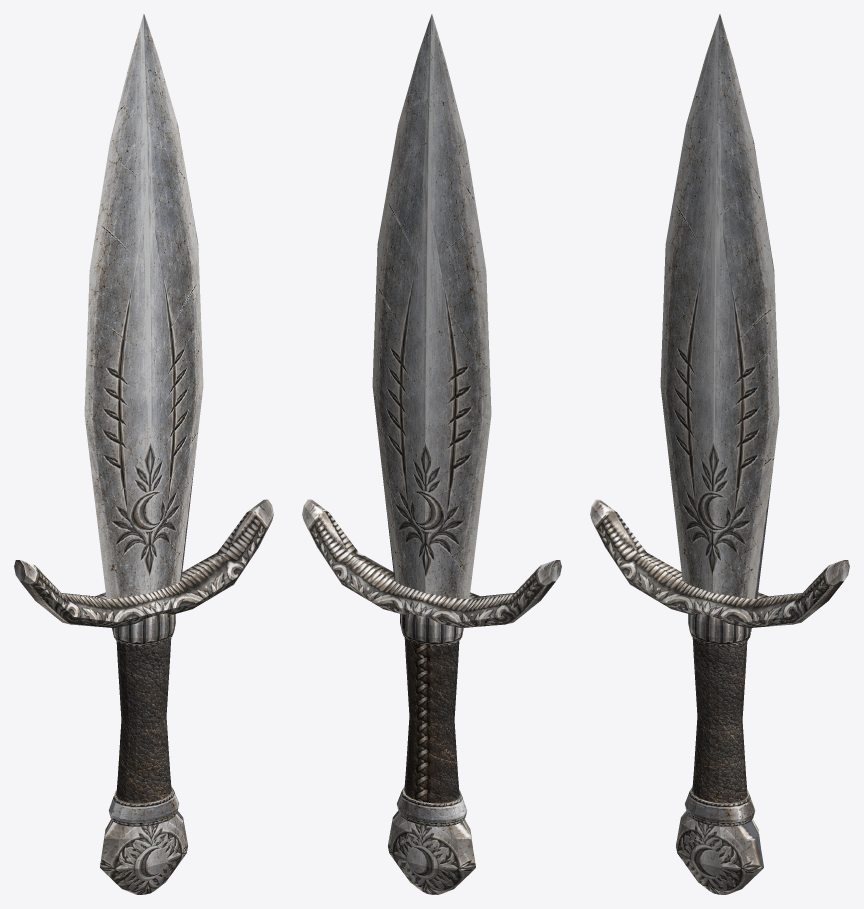
File: dagger.glb
3 views of the same model, side by side, from view 1: azimuth 30°, elevation 25°; view 2: azimuth 150°, elevation 25°; view 3: azimuth 330°, elevation 25° (orthographic).
Parts seen in each view (by area): view 1: Seven_Station_Leaf_Blade_With_Diamond_Ridge, Swept_Lobed_Silver_Crossguard, Waisted_Charcoal_Leather_Grip, Faceted_Teardrop_Pommel, Lower_Engraved_Silver_Ferrule, Upper_Fluted_Silver_Ferrule; view 2: Seven_Station_Leaf_Blade_With_Diamond_Ridge, Swept_Lobed_Silver_Crossguard, Waisted_Charcoal_Leather_Grip, Faceted_Teardrop_Pommel, Lower_Engraved_Silver_Ferrule, Upper_Fluted_Silver_Ferrule; view 3: Seven_Station_Leaf_Blade_With_Diamond_Ridge, Swept_Lobed_Silver_Crossguard, Waisted_Charcoal_Leather_Grip, Faceted_Teardrop_Pommel, Lower_Engraved_Silver_Ferrule, Upper_Fluted_Silver_Ferrule.
Boxes of the visible parts, x1=… form: Seven_Station_Leaf_Blade_With_Diamond_Ridge: x1=84, y1=14, x2=203, y2=598; Swept_Lobed_Silver_Crossguard: x1=14, y1=499, x2=273, y2=627; Waisted_Charcoal_Leather_Grip: x1=116, y1=637, x2=171, y2=803; Faceted_Teardrop_Pommel: x1=100, y1=811, x2=187, y2=894; Lower_Engraved_Silver_Ferrule: x1=108, y1=787, x2=178, y2=826; Upper_Fluted_Silver_Ferrule: x1=112, y1=613, x2=175, y2=645; Seven_Station_Leaf_Blade_With_Diamond_Ridge: x1=372, y1=14, x2=491, y2=598; Swept_Lobed_Silver_Crossguard: x1=302, y1=499, x2=561, y2=627; Waisted_Charcoal_Leather_Grip: x1=404, y1=637, x2=459, y2=803; Faceted_Teardrop_Pommel: x1=388, y1=811, x2=475, y2=894; Lower_Engraved_Silver_Ferrule: x1=397, y1=787, x2=467, y2=826; Upper_Fluted_Silver_Ferrule: x1=400, y1=613, x2=463, y2=645; Seven_Station_Leaf_Blade_With_Diamond_Ridge: x1=660, y1=14, x2=779, y2=598; Swept_Lobed_Silver_Crossguard: x1=590, y1=499, x2=849, y2=627; Waisted_Charcoal_Leather_Grip: x1=692, y1=637, x2=747, y2=803; Faceted_Teardrop_Pommel: x1=676, y1=811, x2=763, y2=894; Lower_Engraved_Silver_Ferrule: x1=685, y1=787, x2=755, y2=826; Upper_Fluted_Silver_Ferrule: x1=688, y1=613, x2=751, y2=645.
Size of the model in its own units: 0.146 by 0.4933 by 0.03.
Materials: 2 (2 with a texture image).
